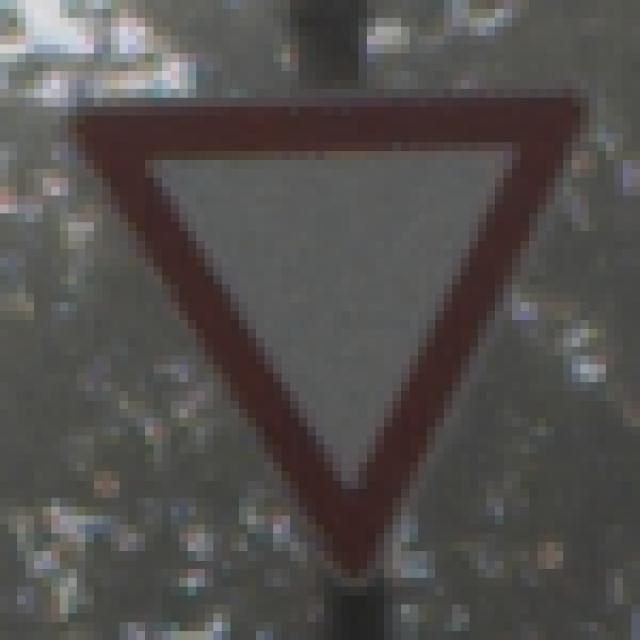Give Way: (52, 63, 590, 579)
